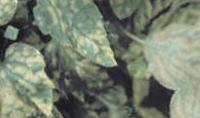Tomato mold leaf: (25, 0, 126, 96), (138, 14, 200, 96), (0, 37, 62, 118)
